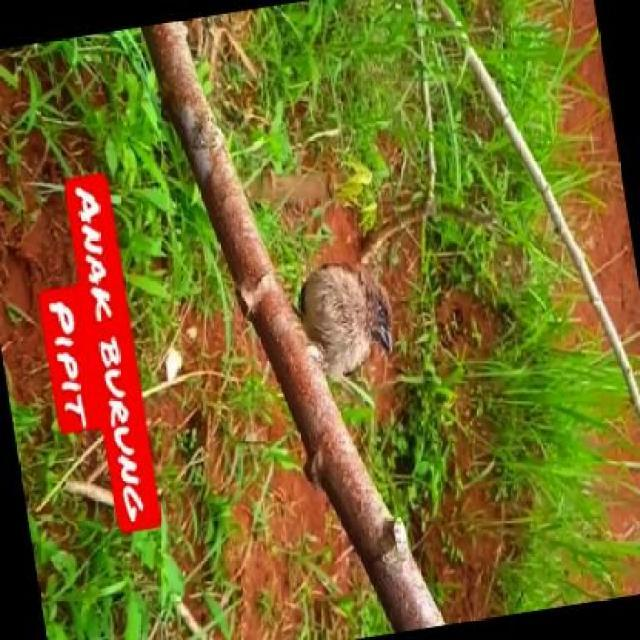Bird: (295, 257, 397, 384)
